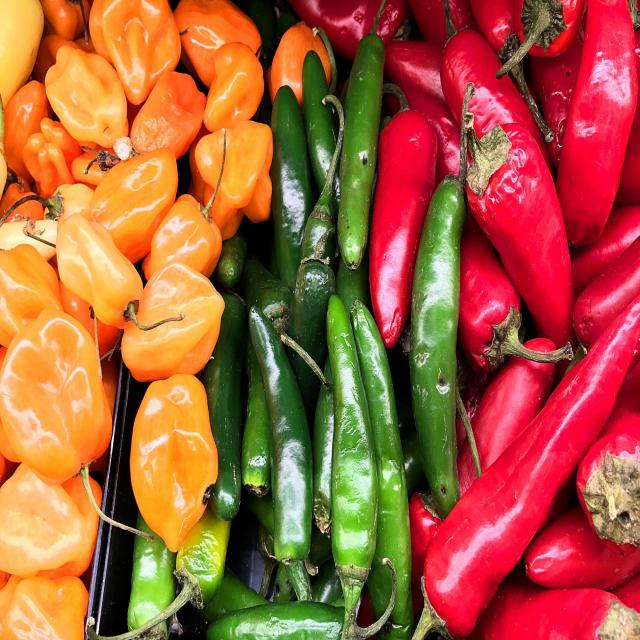chilli: (323, 296, 378, 610), (249, 300, 314, 565), (370, 109, 427, 339)
